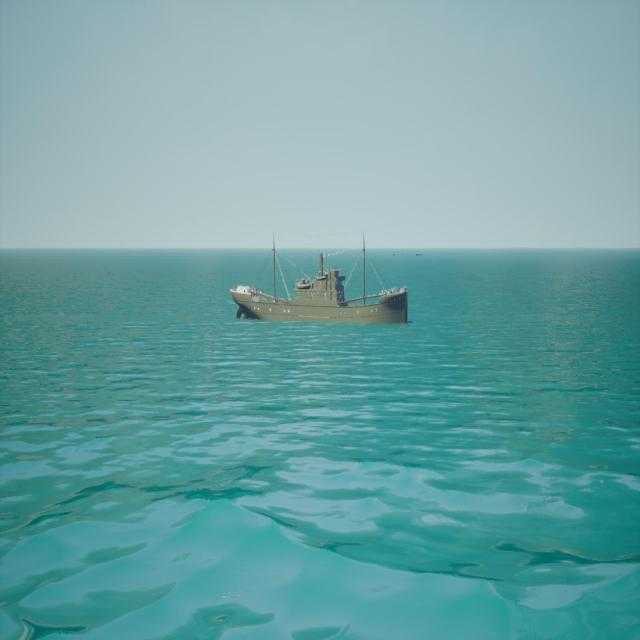fishing ship: (228, 237, 411, 324)
